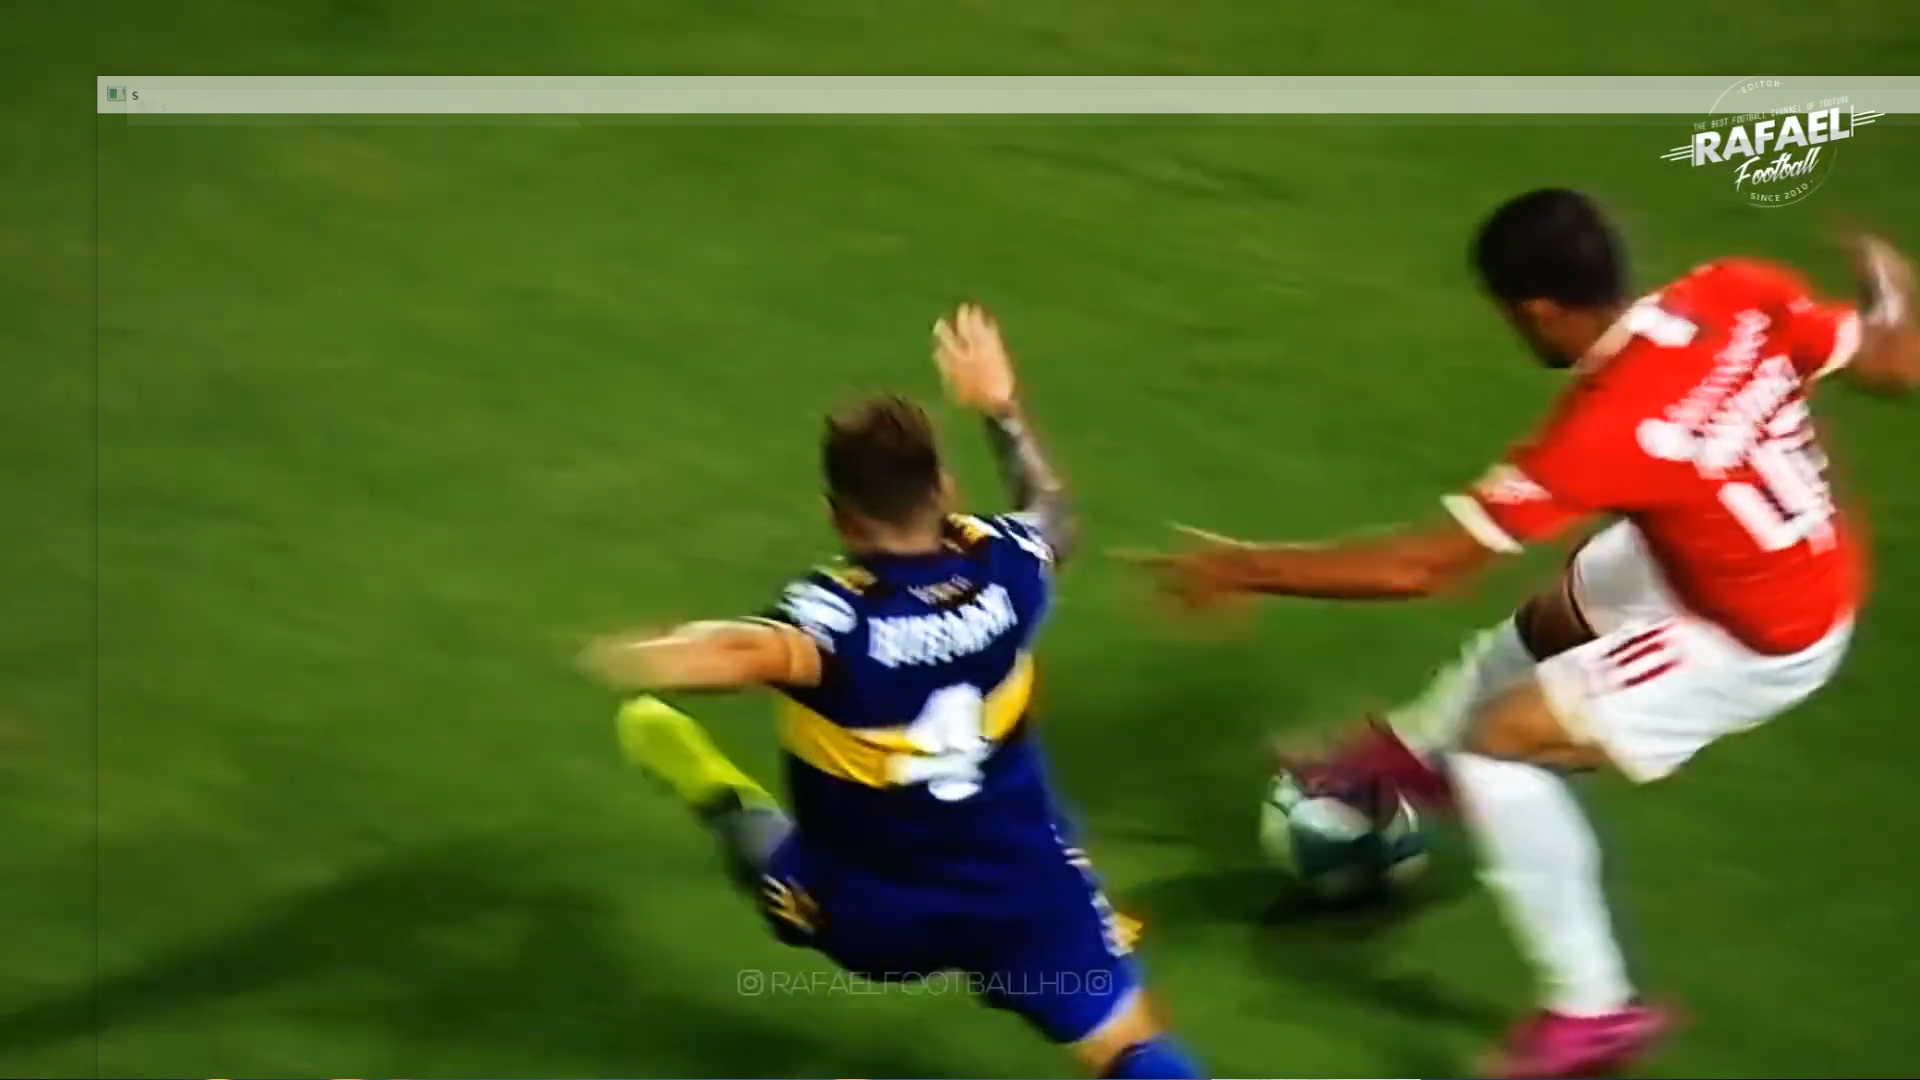ft: (1230, 760, 1451, 931)
